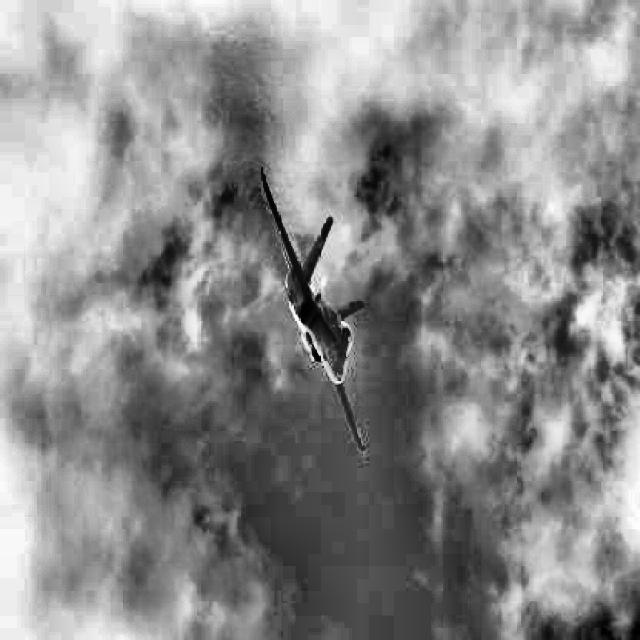F18: (260, 165, 368, 464)
